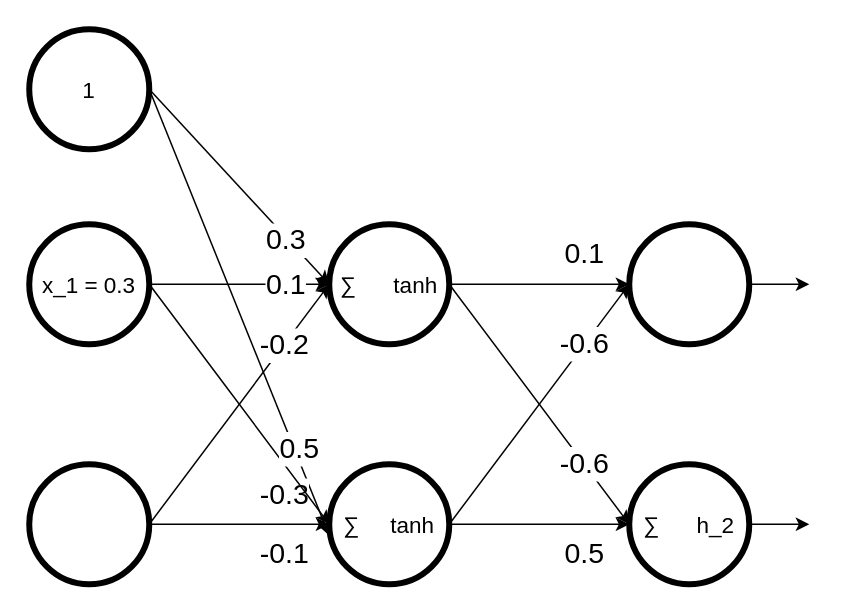
This 848x612 diagram has some shape labels left out. The centre of each missing label's shape, as x and y in pixels:
x_2 = 0.1: the point at 89,523
∑ h_1: the point at 689,283
